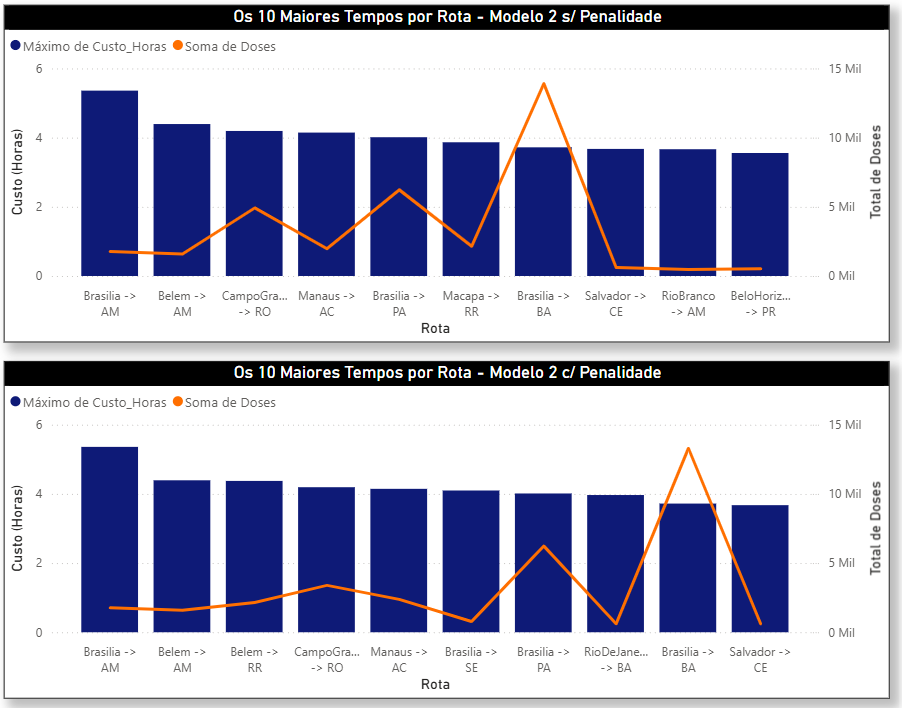

The dashboard page shown, as its layout file describes it:
{"tool":"powerbi","page":{"name":"Maiores Tempos - Mod 2","canvas":[1280,720],"ordinal":5},"visuals":[{"type":"lineClusteredColumnComboChart","title":"Os 10 Maiores Tempos por Rota - Modelo 2 s/ Penalidade","fields":{"Category":["detalhes_mod2_penFALSE.Rota"],"Y":["Max(detalhes_mod2_penFALSE.Custo_Horas)"],"Y2":["Sum(detalhes_mod2_penFALSE.Doses)"]},"box":[197.8,13.7,882,335.9],"z":4000},{"type":"lineClusteredColumnComboChart","title":"Os 10 Maiores Tempos por Rota - Modelo 2 c/ Penalidade","fields":{"Category":["detalhes_mod2_penTRUE.Rota"],"Y":["Max(detalhes_mod2_penTRUE.Custo_Horas)"],"Y2":["Sum(detalhes_mod2_penTRUE.Doses)"]},"box":[197.8,368.2,882,335.9],"z":5000}]}

Visuals, with their boxes on the page's 1280x720 design canvas (x1, y1, x2, y2). These are canvas units, not pixel positions in the 902x708 screenshot, which may show the page scaled, cropped or inside an application window:
"Os 10 Maiores Tempos por Rota - Modelo 2 s/ Penalidade" lineClusteredColumnComboChart: [left=198, top=14, right=1080, bottom=350]
"Os 10 Maiores Tempos por Rota - Modelo 2 c/ Penalidade" lineClusteredColumnComboChart: [left=198, top=368, right=1080, bottom=704]
